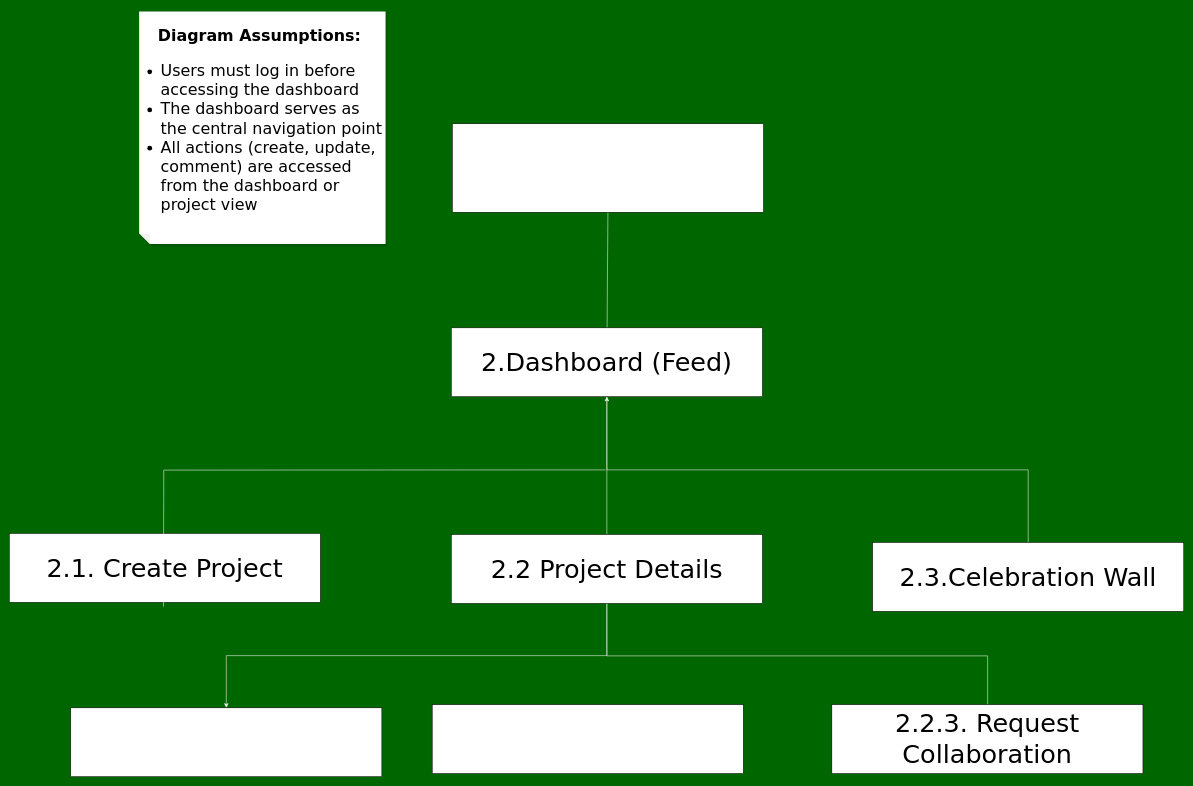
Some shapes in this 1193 by 786 pixel diagram are drawn without their labels. The centre of each missing label's shape, as x and y in pixels:
"1.Login/Register" belongs at (607,167).
"2.2.1. Update Progress" belongs at (226,742).
"2.2.2. Comment" belongs at (587,739).
